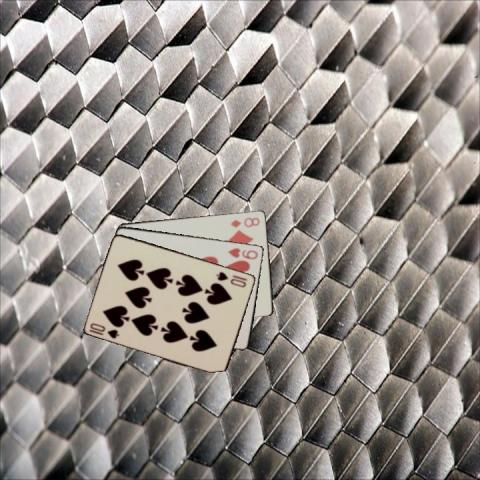10s: (214, 268, 248, 288), (87, 320, 121, 340)
8d: (228, 214, 262, 229)
9h: (226, 244, 260, 260)
